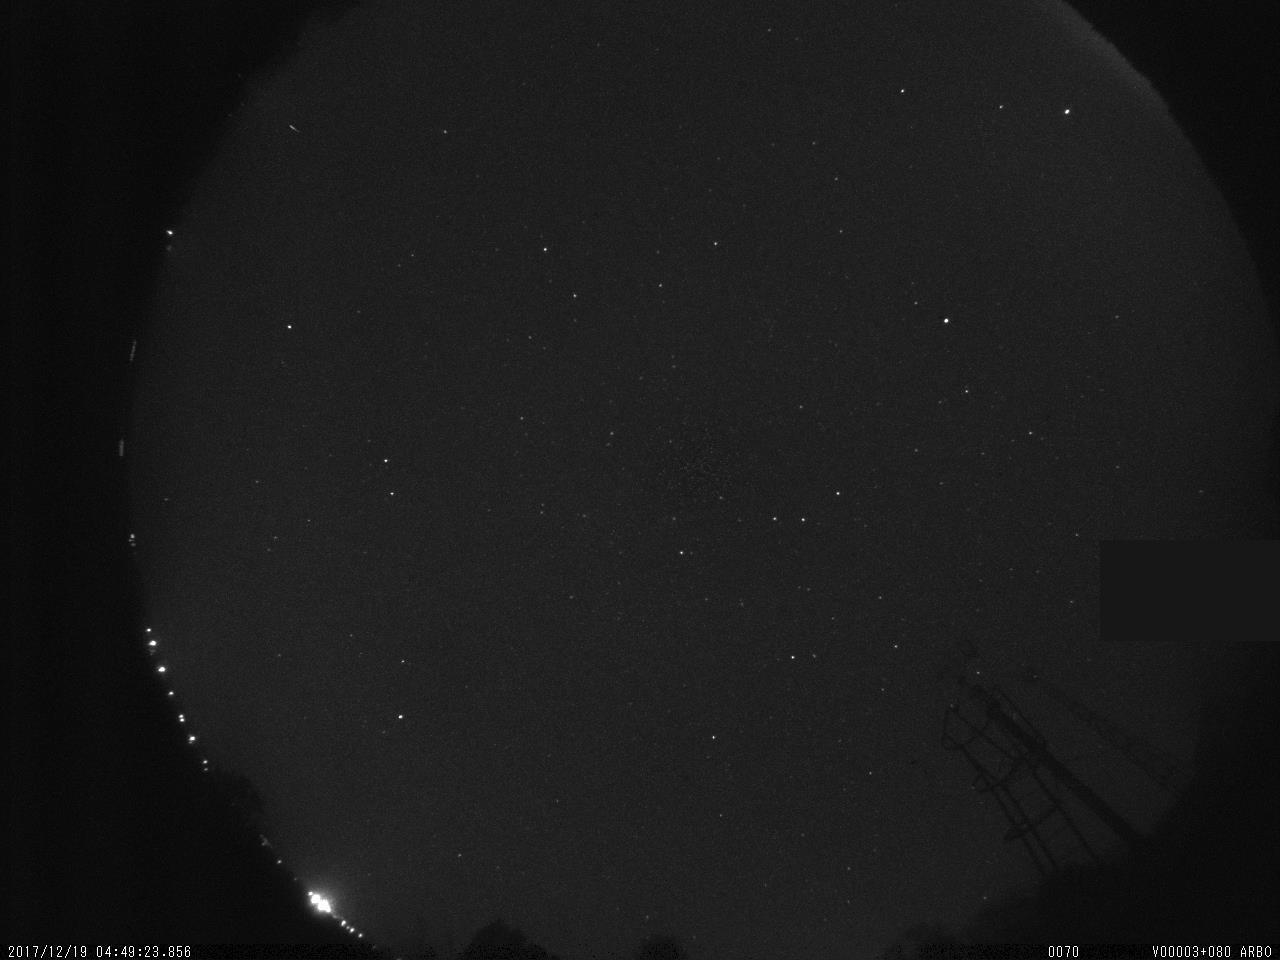meteor: (274, 114, 337, 152)
